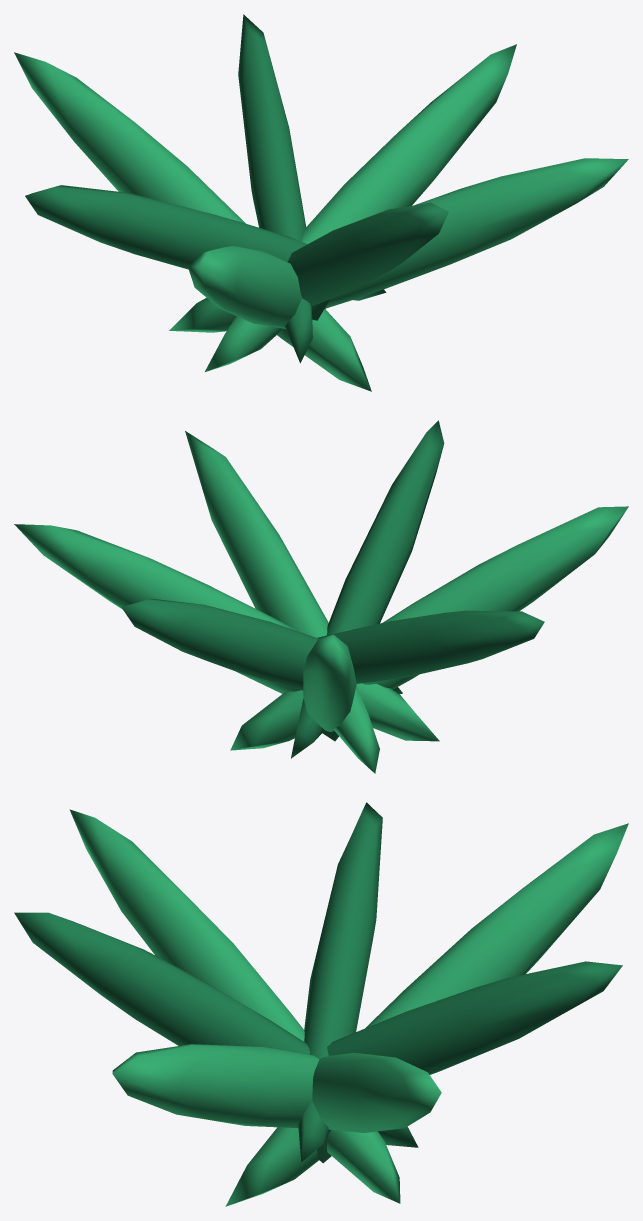
Rendered from prop-fern.glb.
3 renders of one model, top to bottom at view 1: azimuth 30°, elevation 25°; view 2: azimuth 150°, elevation 25°; view 3: azimuth 270°, elevation 25°, orthographic. The views are drawn at different scales.
Parts seen in each view (by area): view 1: prop-fern; view 2: prop-fern; view 3: prop-fern.
Part boxes in pixels (left/top/right/bottom): prop-fern: left=14, top=14, right=628, bottom=391; prop-fern: left=14, top=420, right=628, bottom=773; prop-fern: left=14, top=802, right=628, bottom=1206.
Size of the model in its own units: 0.34 by 0.1561 by 0.3052.
